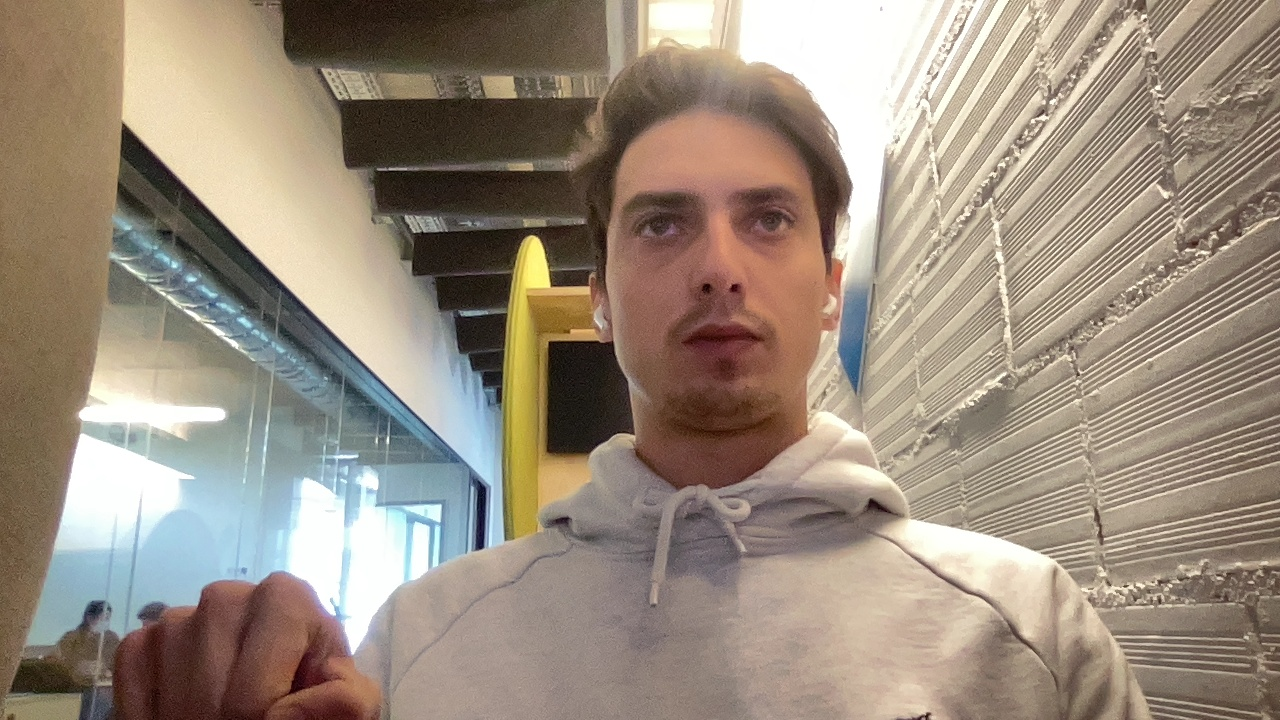yes: (90, 568, 395, 717)
